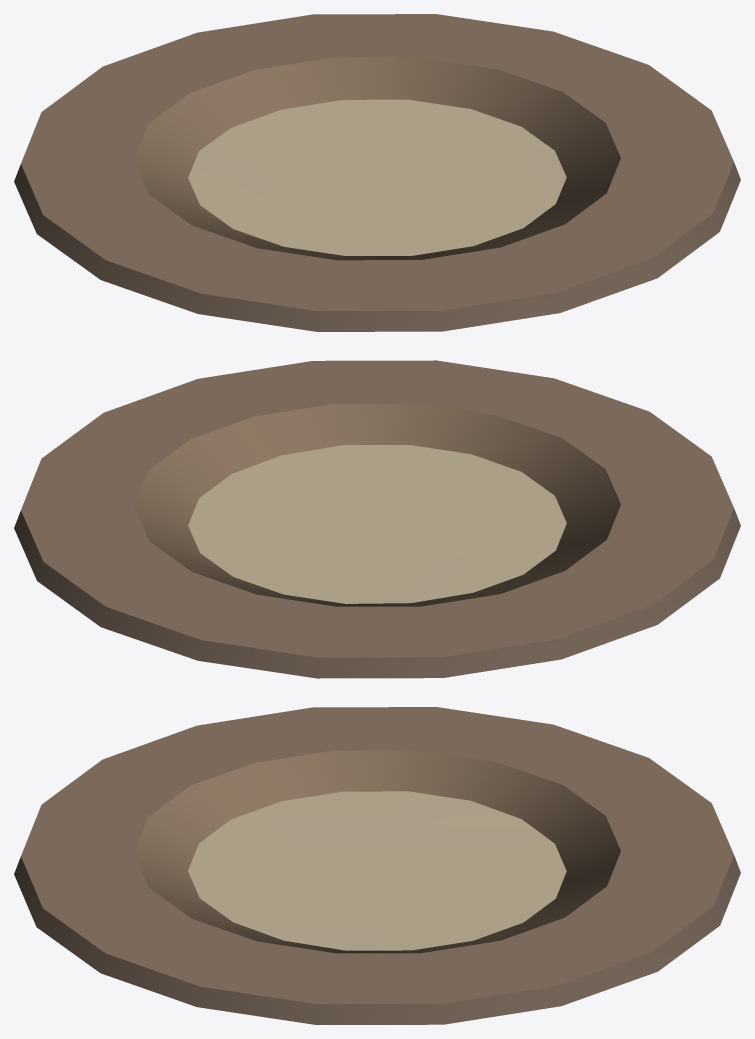
Rendered from SM_TA_Tile 1.fbx.
The picture shows the model from 3 angles, top to bottom: view 1: azimuth 30°, elevation 25°; view 2: azimuth 150°, elevation 25°; view 3: azimuth 270°, elevation 25°; orthographic projection.
Visible parts, largest first — view 1: Tile; view 2: Tile; view 3: Tile.
Boxes of the visible parts, x1,y1,x2,y2 form: Tile: (14, 14, 740, 331); Tile: (14, 360, 740, 678); Tile: (14, 707, 740, 1024).
Bounding box in the file's own units: 0.8452 × 0.029 × 0.8573.
